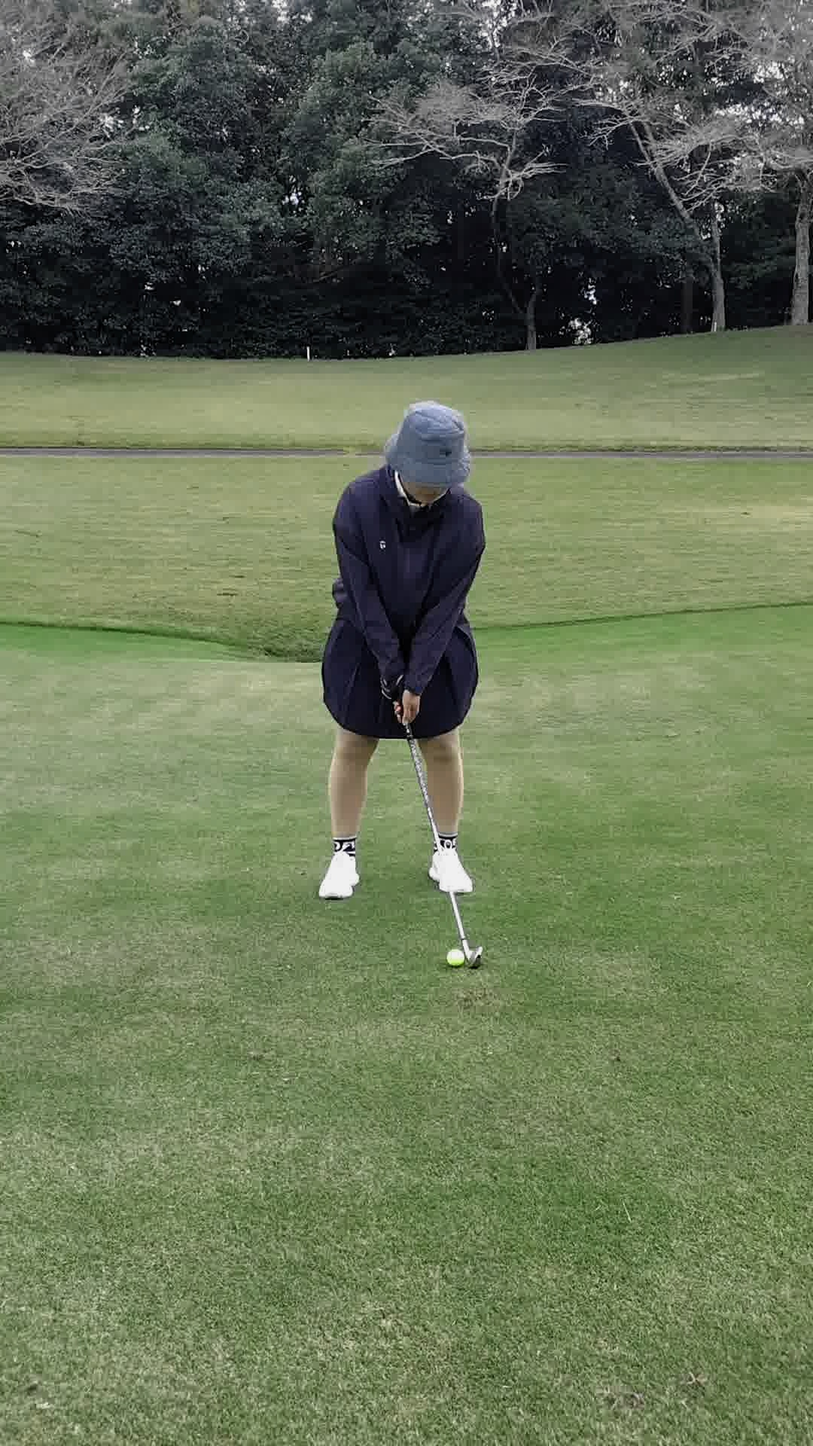clubhead: (410, 888, 508, 1016)
